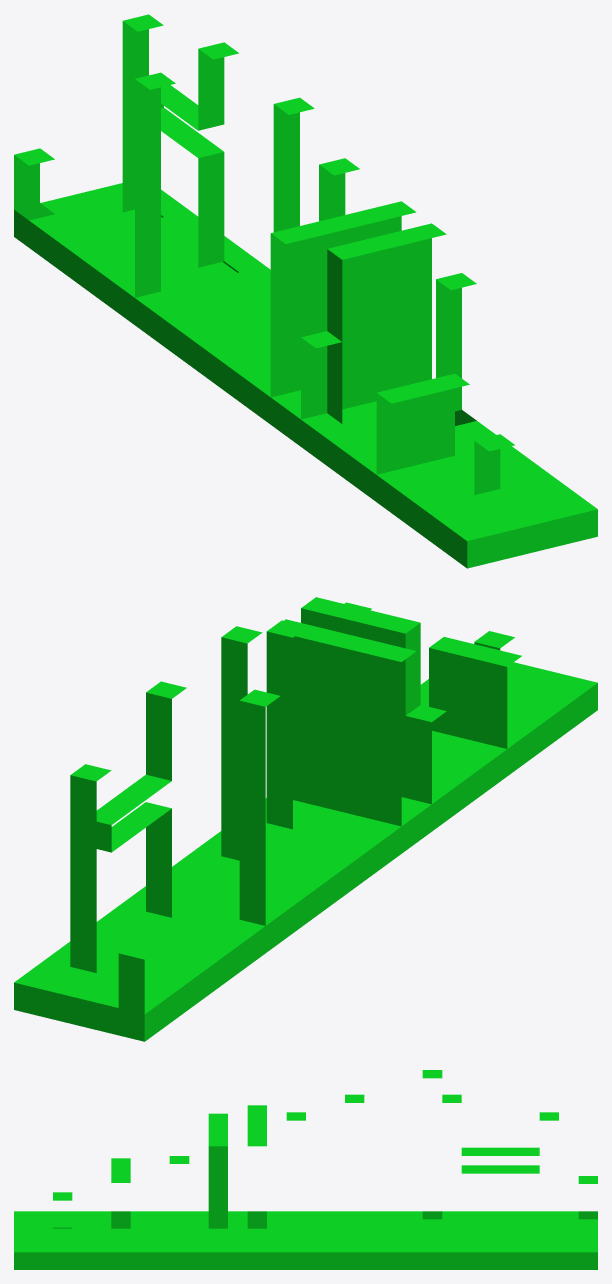
The model's file is SAFEGROUND.glb.
The picture shows the model from 3 angles, top to bottom: view 1: azimuth 30°, elevation 25°; view 2: azimuth 150°, elevation 25°; view 3: azimuth 270°, elevation 25°; orthographic projection. The views are drawn at different scales.
Visible parts, largest first — view 1: SAFEGROUND_CUBE; view 2: SAFEGROUND_CUBE; view 3: SAFEGROUND_CUBE.
Boxes of the visible parts, bbox=[...] form: SAFEGROUND_CUBE: bbox=[14, 14, 597, 568]; SAFEGROUND_CUBE: bbox=[14, 597, 597, 1041]; SAFEGROUND_CUBE: bbox=[14, 1070, 597, 1269].
Bounding box in the file's own units: 5 × 9 × 30.
